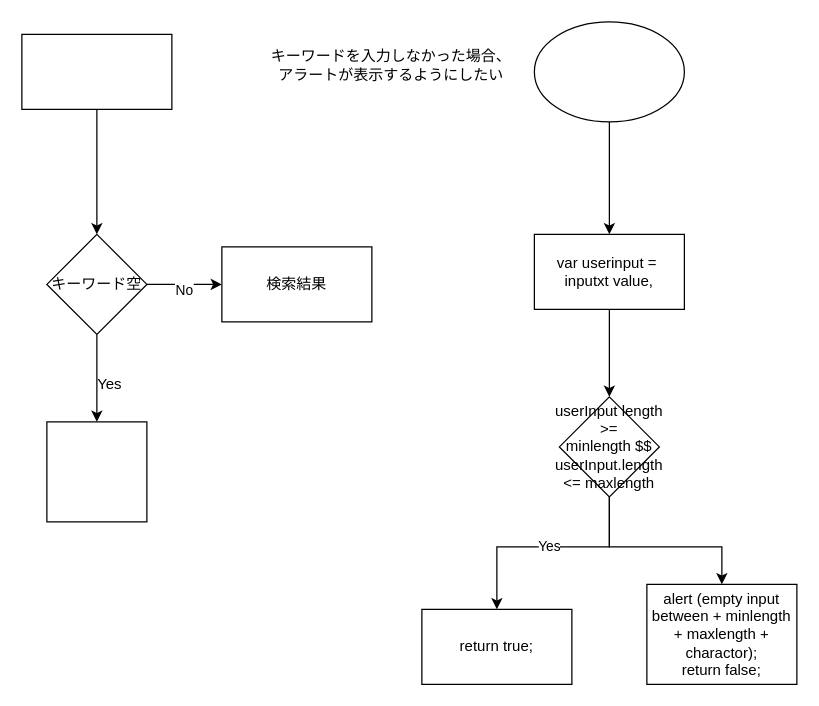
Image size: 819x706. Some labels were removed from this diagram. Here are the shapes that lost their labels. From the top down, the centre of each, then its label:
the point at 96,71: サーチ検索
the point at 608,71: functon valueZero length range()
the point at 96,471: お知らせアラート
